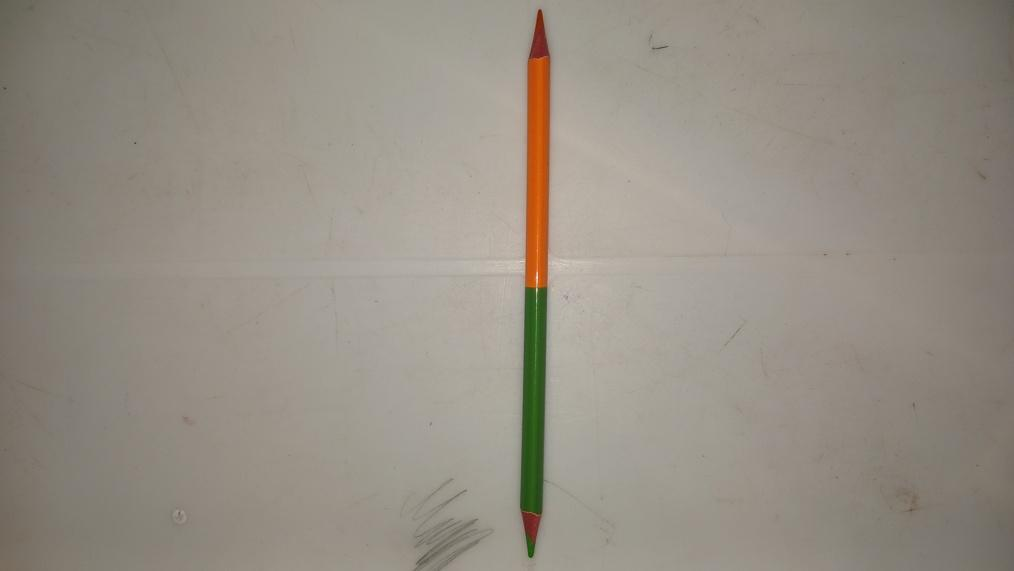Pencil: (519, 6, 555, 554)
